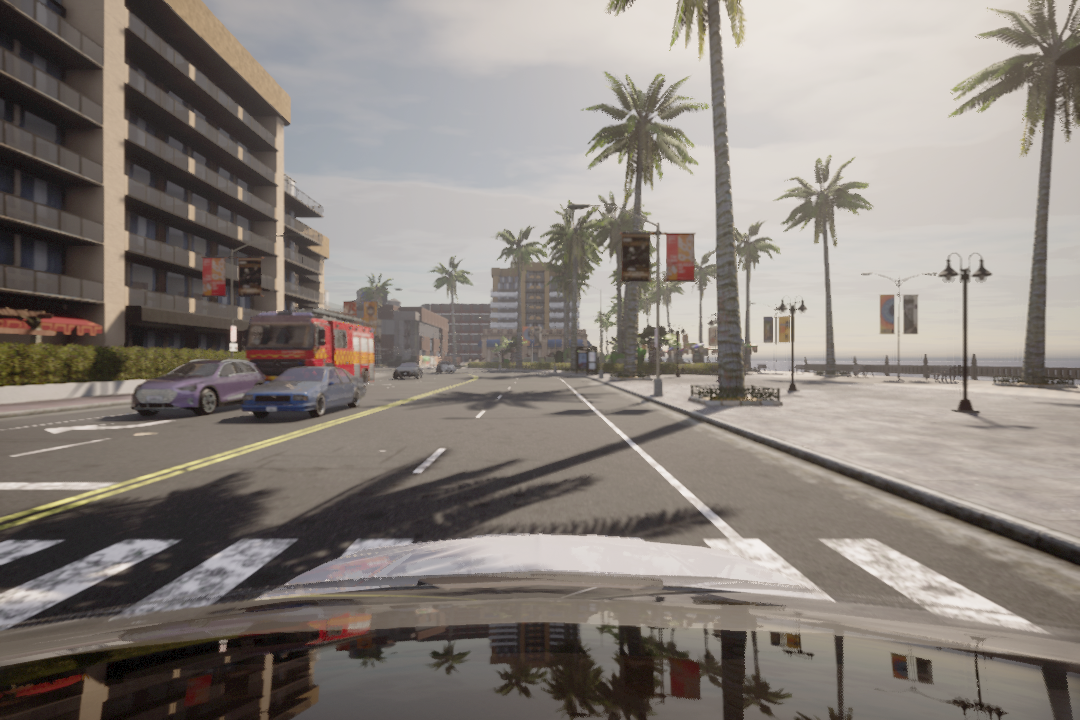RoadSign_right: (39, 414, 177, 437)
